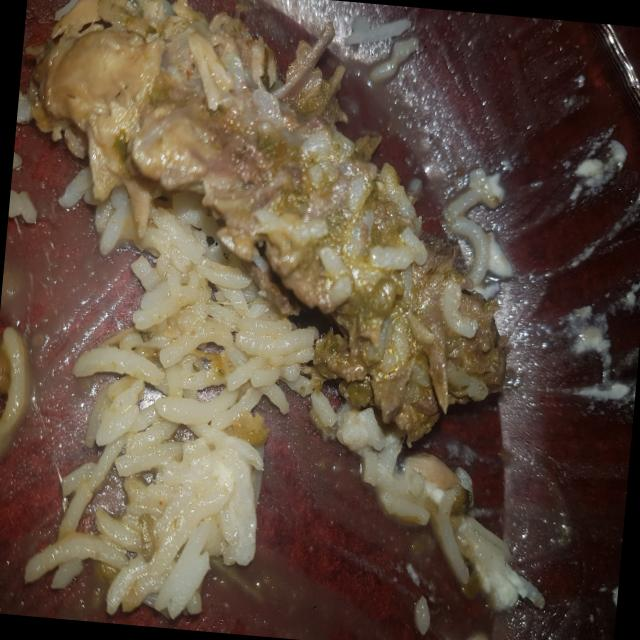paper: (0, 0, 570, 507)
